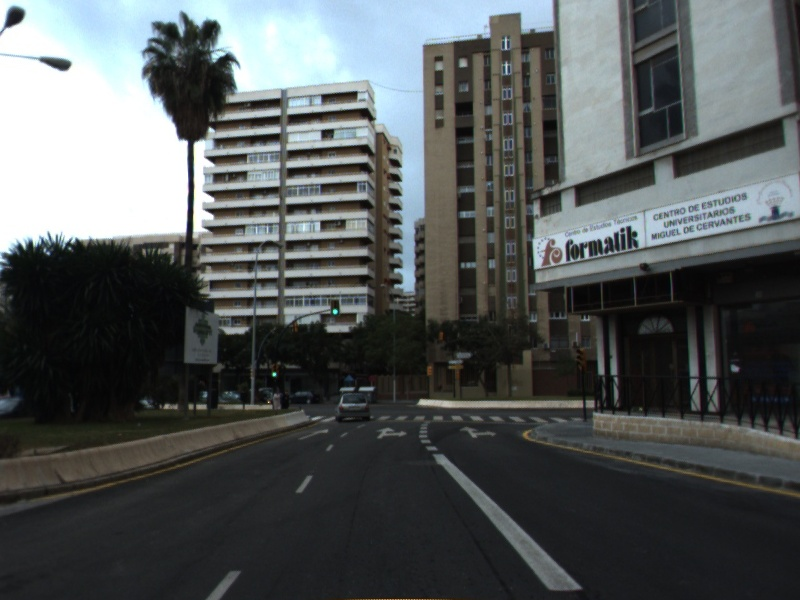STRAIGHT: (295, 426, 331, 442)
STRAIGHT_RIGHT: (458, 424, 499, 440), (374, 425, 410, 441)
